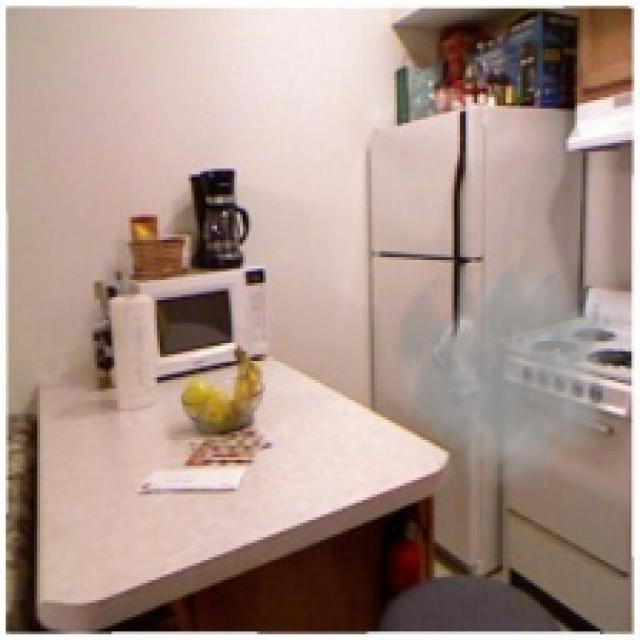Smoke: (377, 255, 623, 500)
